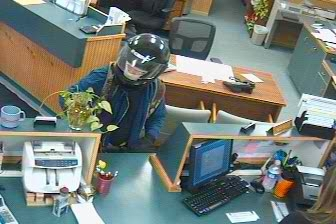helmet: (112, 28, 169, 98)
